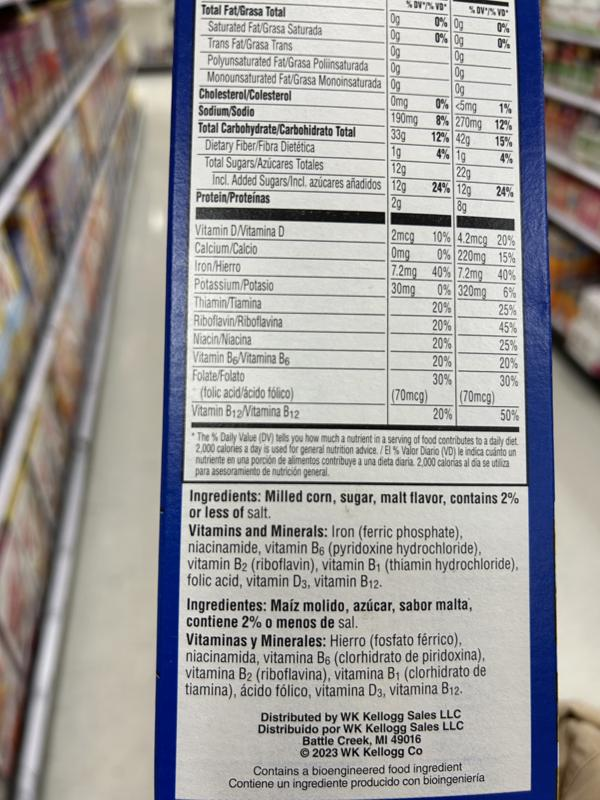ingredients: (186, 487, 525, 522)
